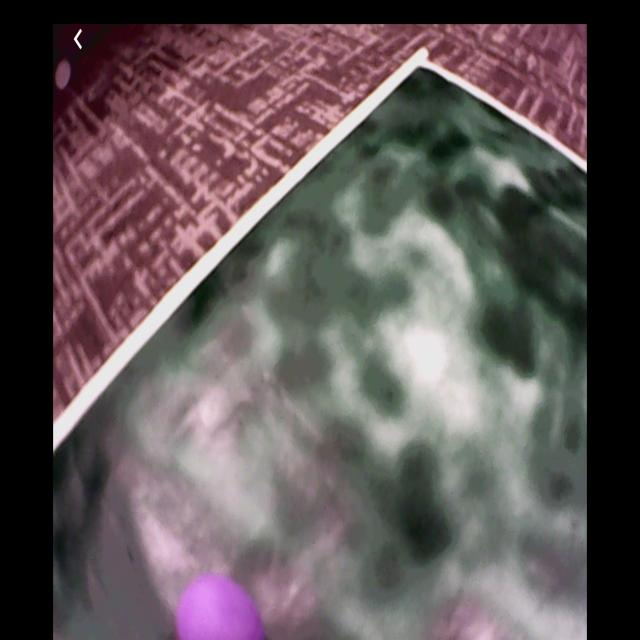ball: (176, 578, 264, 640)
